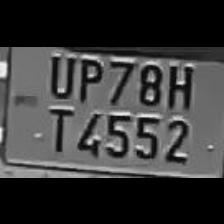2: (160, 114, 190, 164)
4: (72, 106, 102, 156)
5: (100, 108, 130, 158), (130, 110, 160, 160)
7: (102, 55, 134, 106)
8: (134, 57, 162, 106)
H: (162, 60, 196, 108)
P: (72, 52, 104, 104)
T: (44, 101, 72, 155)
U: (43, 50, 74, 98)
